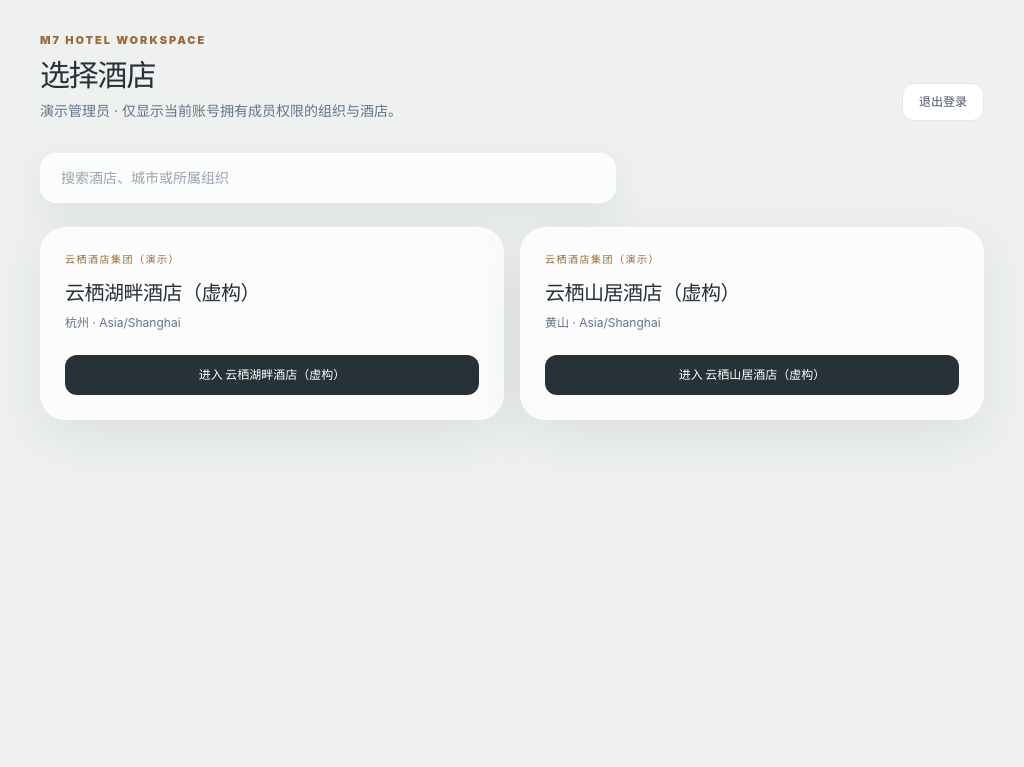
Test: M7 email-authenticated hotel workspace › loads, edits and saves hotel and BrandKit configuration
Expected: the heading "选择酒店" is shown, top-left (40, 56), bottom-right (155, 92)
Click the button "进入 云栖湖畔酒店（虚构）": (272, 374) top-left (65, 354), bottom-right (479, 394)
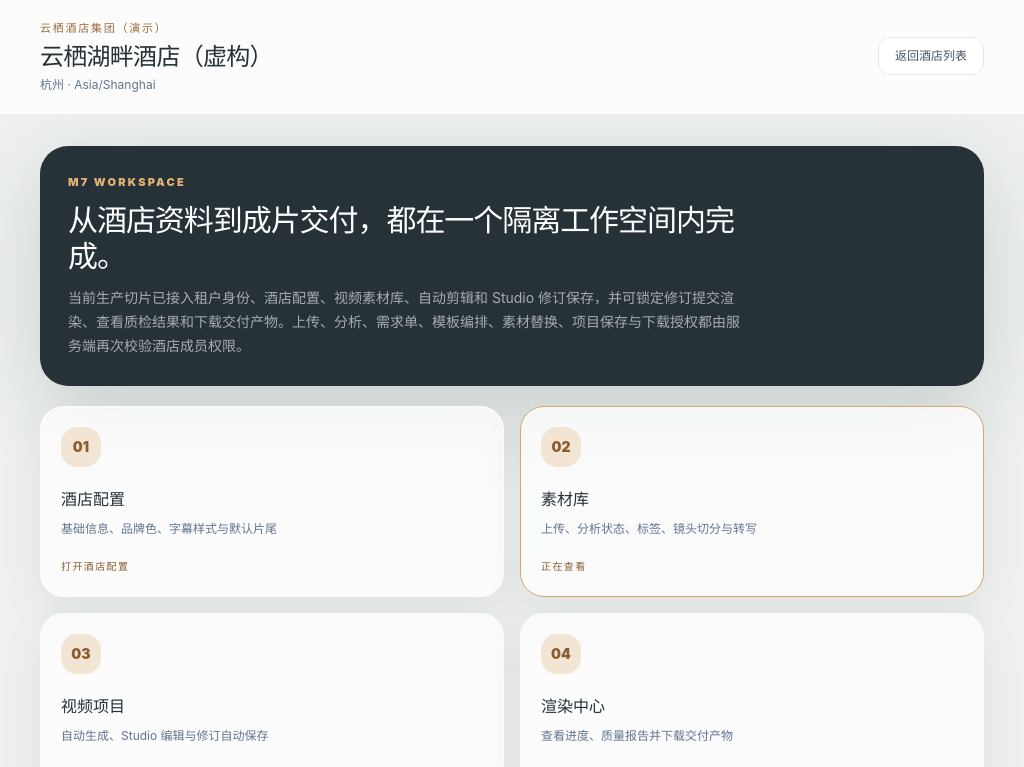
Click the button "打开酒店配置": (95, 566) top-left (61, 559), bottom-right (129, 574)
(page scrolled)
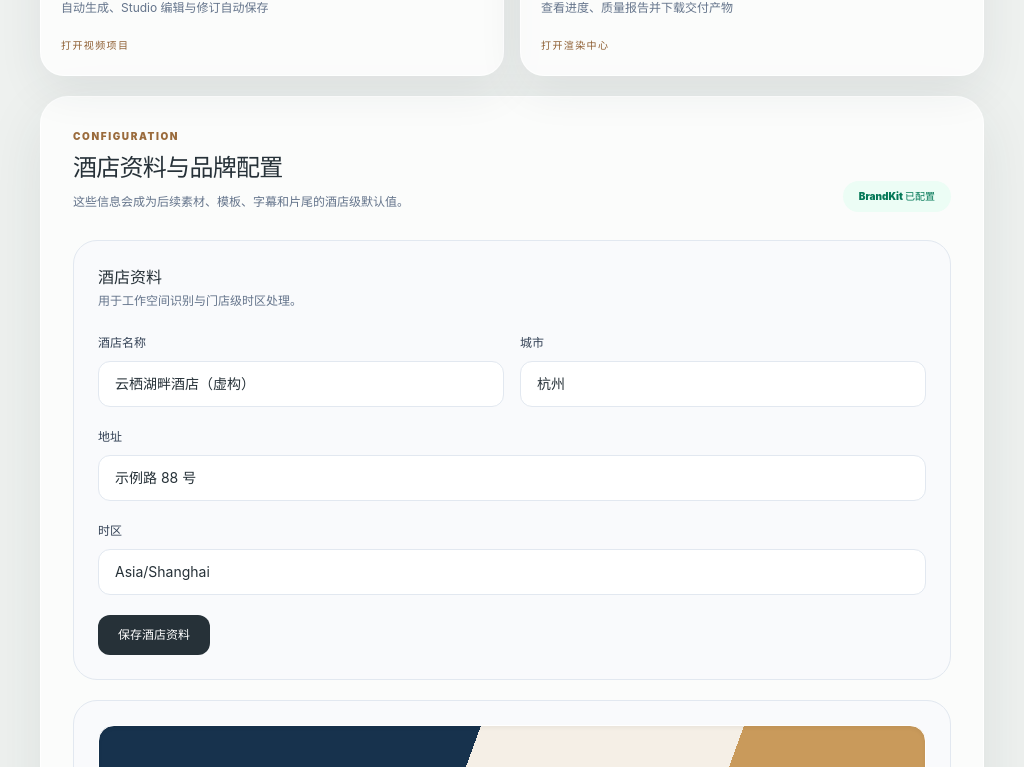
Expected: the heading "酒店资料与品牌配置" is shown, top-left (73, 153), bottom-right (282, 182)
Replace the text in the field labelled "酒店名称" with "云栖湖畔度假酒店（虚构）": (301, 384) top-left (98, 361), bottom-right (504, 407)
Replace the text in the field labelled "城市" with "苏州": (723, 384) top-left (520, 361), bottom-right (926, 407)
Click the button "保存酒店资料": (154, 635) top-left (98, 615), bottom-right (210, 655)
(page scrolled)
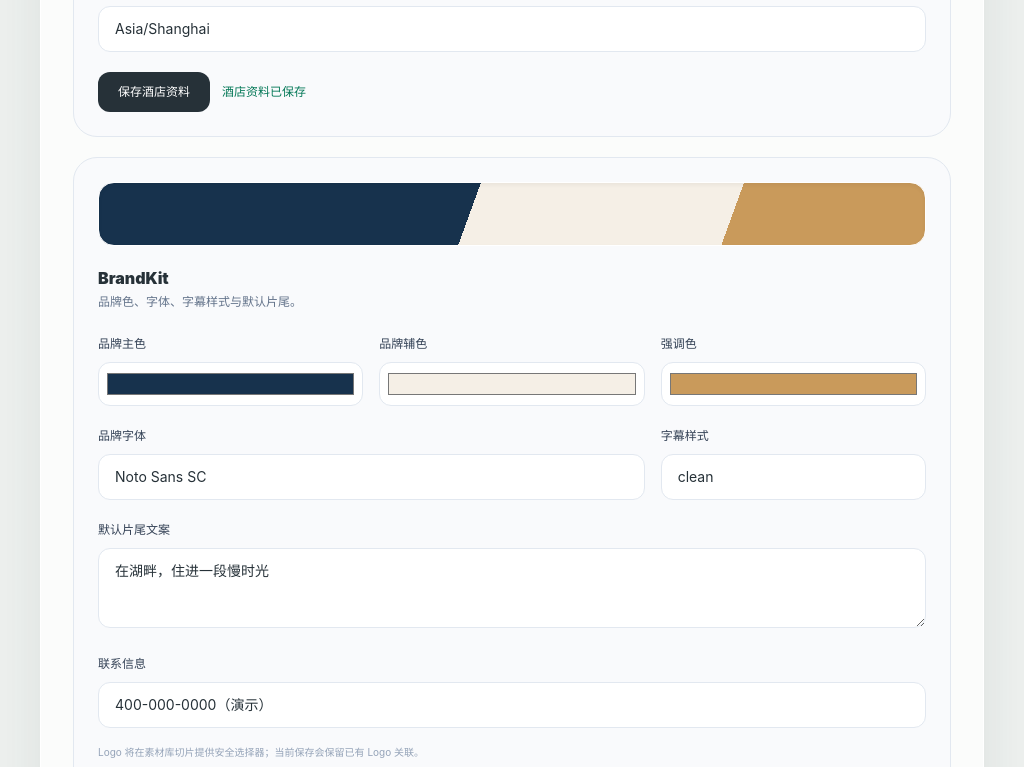
Expected: the text "酒店资料已保存" is shown, top-left (222, 84), bottom-right (306, 100)
In the colour field labelled "强调色": (793, 384) top-left (661, 362), bottom-right (926, 406), type "#b87333"
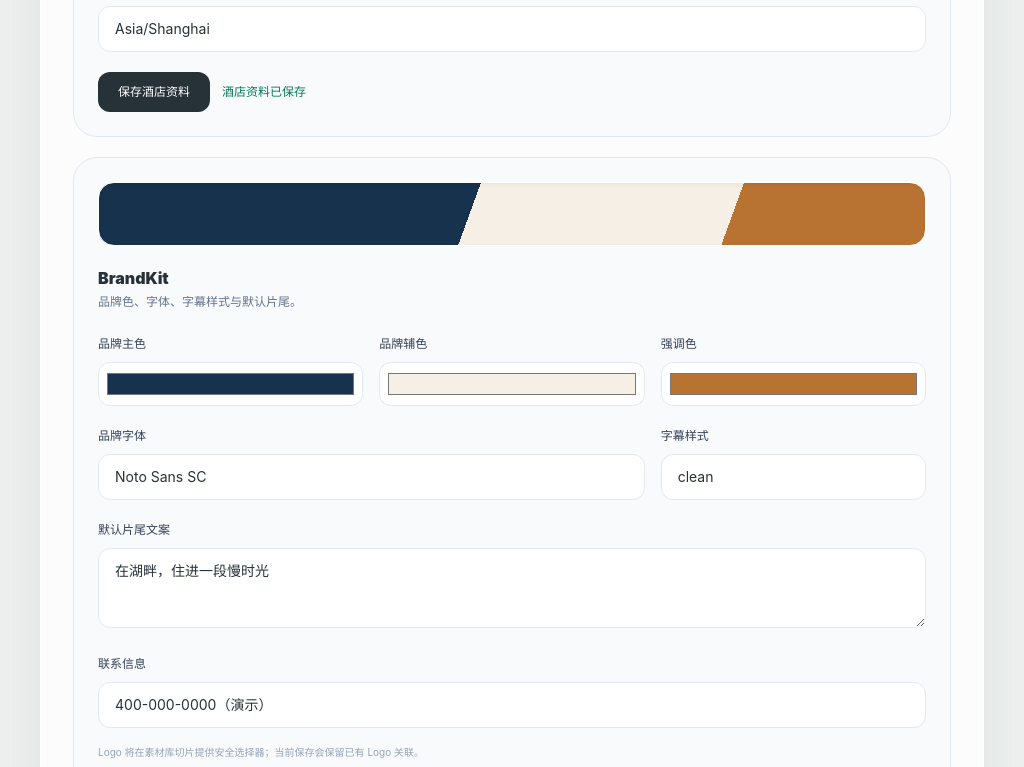
Replace the text in the text box labelled "默认片尾文案" with "今晚，住进湖畔慢时光": (512, 588) top-left (98, 548), bottom-right (926, 628)
(page scrolled)
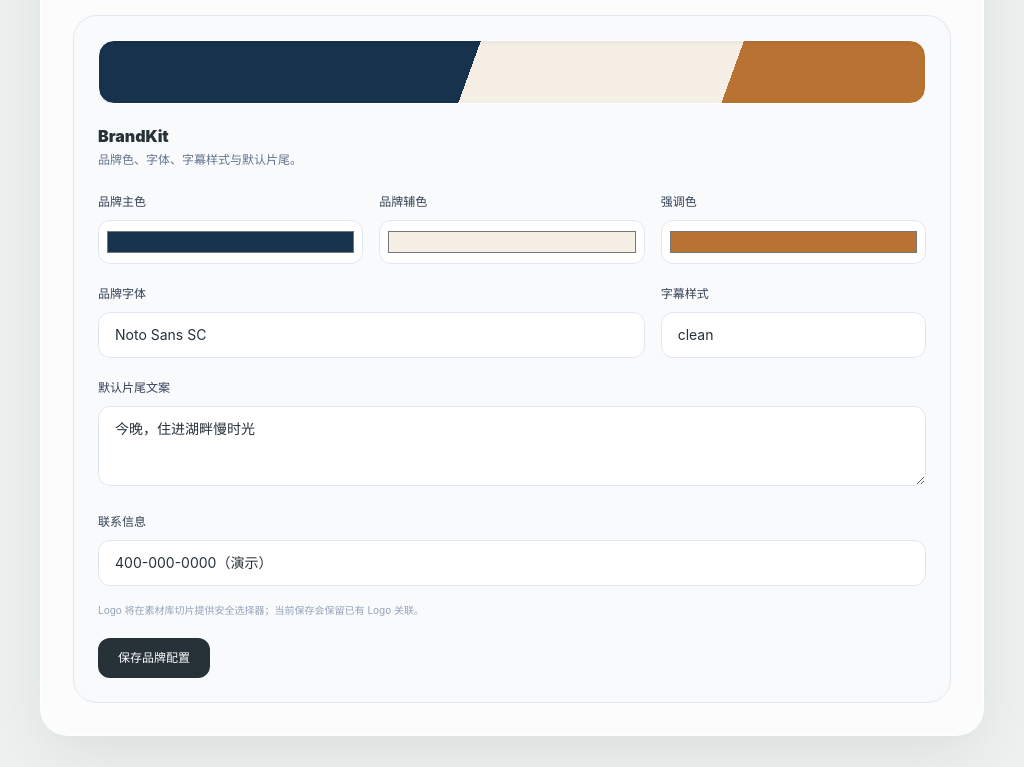
Click the button "保存品牌配置": (154, 658) top-left (98, 638), bottom-right (210, 678)
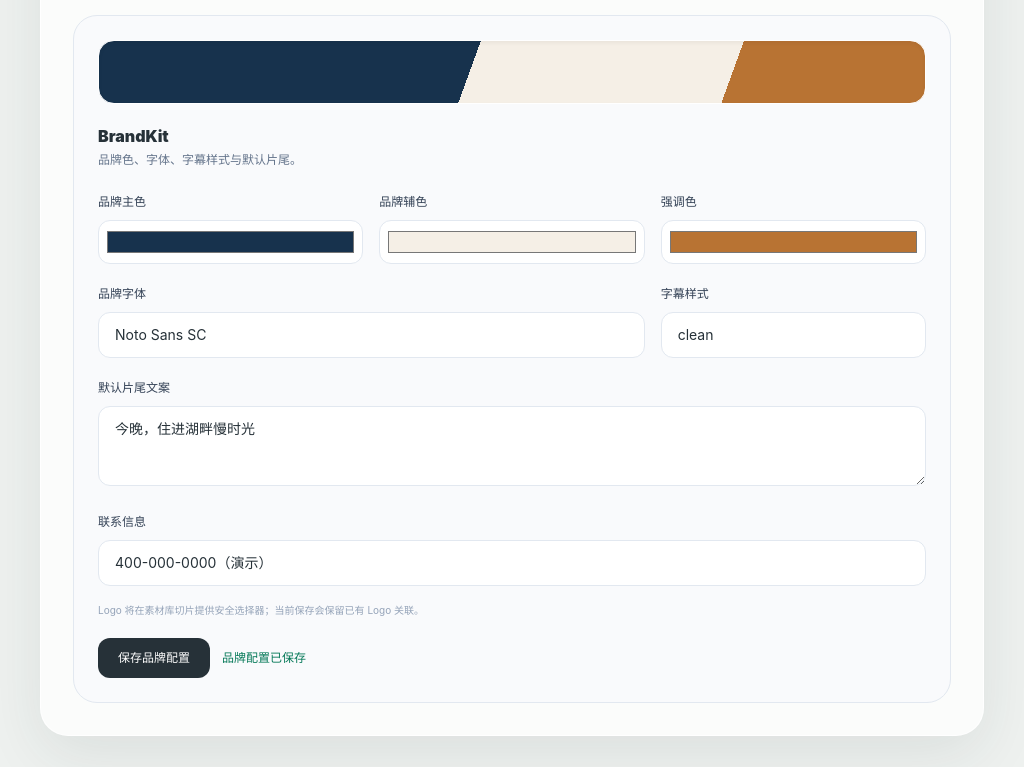
Expected: the text "品牌配置已保存" is shown, top-left (222, 650), bottom-right (306, 666)
